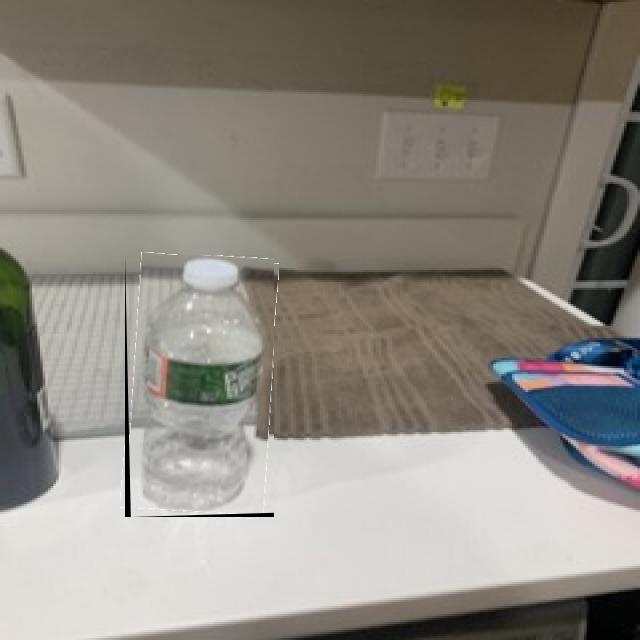water_bottle: (125, 255, 274, 517)
